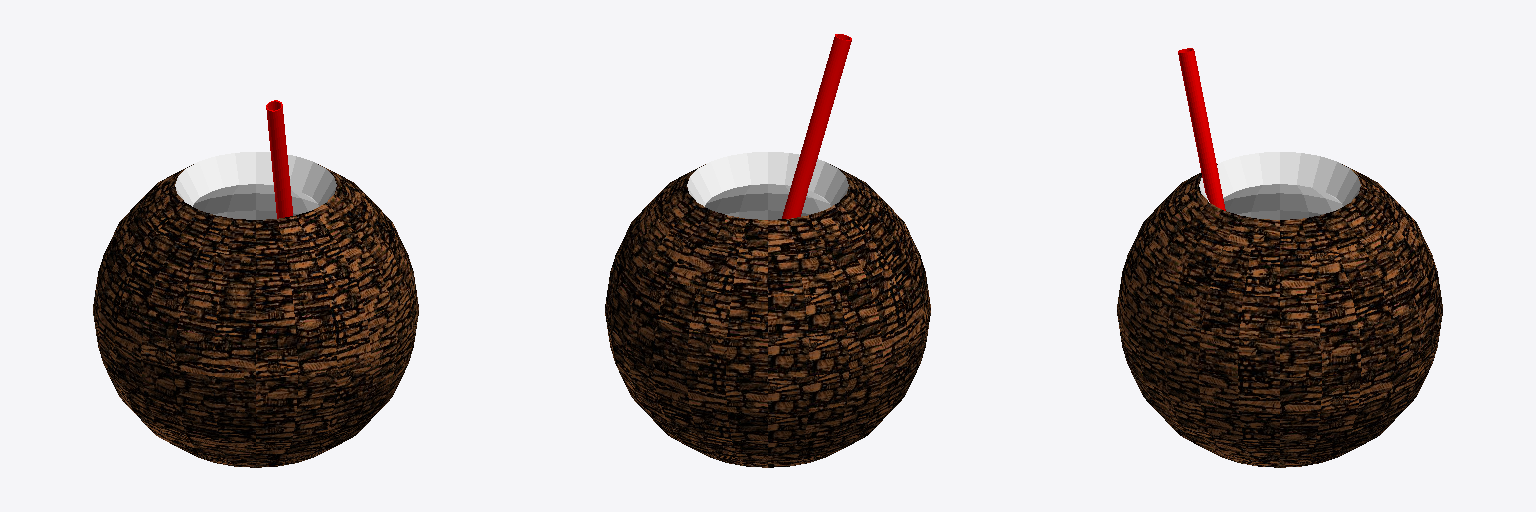
3 renders of one model, left to right at view 1: azimuth 30°, elevation 25°; view 2: azimuth 150°, elevation 25°; view 3: azimuth 270°, elevation 25°, orthographic.
Visible parts, largest first — view 1: Mesh1 Component_7_1 coconut__1_1 Model, Mesh2 Component_7_1 coconut__1_1 Model; view 2: Mesh1 Component_7_1 coconut__1_1 Model, Mesh2 Component_7_1 coconut__1_1 Model; view 3: Mesh1 Component_7_1 coconut__1_1 Model, Mesh2 Component_7_1 coconut__1_1 Model.
Part boxes in pixels (x1,y1,x2,y2): Mesh1 Component_7_1 coconut__1_1 Model: (93, 152, 418, 467); Mesh2 Component_7_1 coconut__1_1 Model: (266, 100, 292, 218); Mesh1 Component_7_1 coconut__1_1 Model: (605, 152, 930, 467); Mesh2 Component_7_1 coconut__1_1 Model: (782, 34, 851, 218); Mesh1 Component_7_1 coconut__1_1 Model: (1117, 152, 1442, 467); Mesh2 Component_7_1 coconut__1_1 Model: (1178, 48, 1225, 210).
Bounding box in the file's own units: 162 × 211 × 162.
Materials: 3 (1 with a texture image).